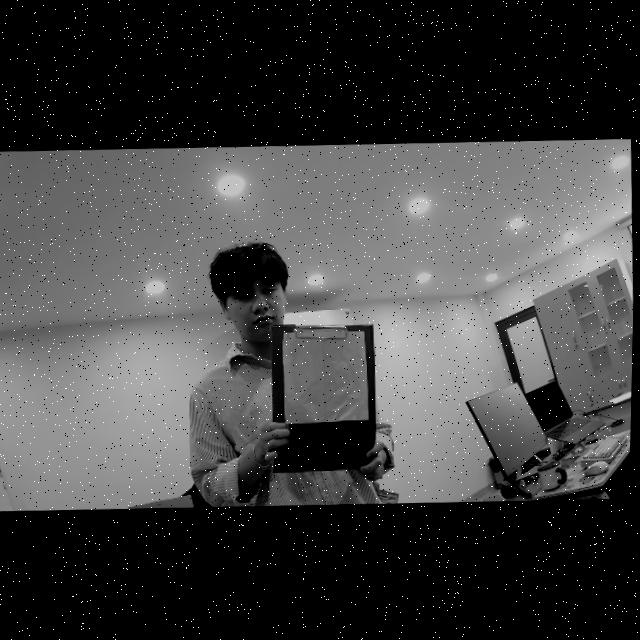face: (214, 242, 283, 345)
